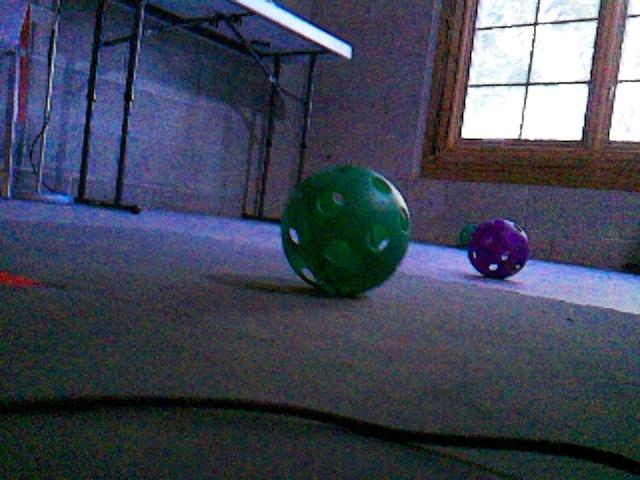Green: (279, 163, 411, 297), (459, 224, 478, 247)
Purple: (465, 218, 530, 280)
